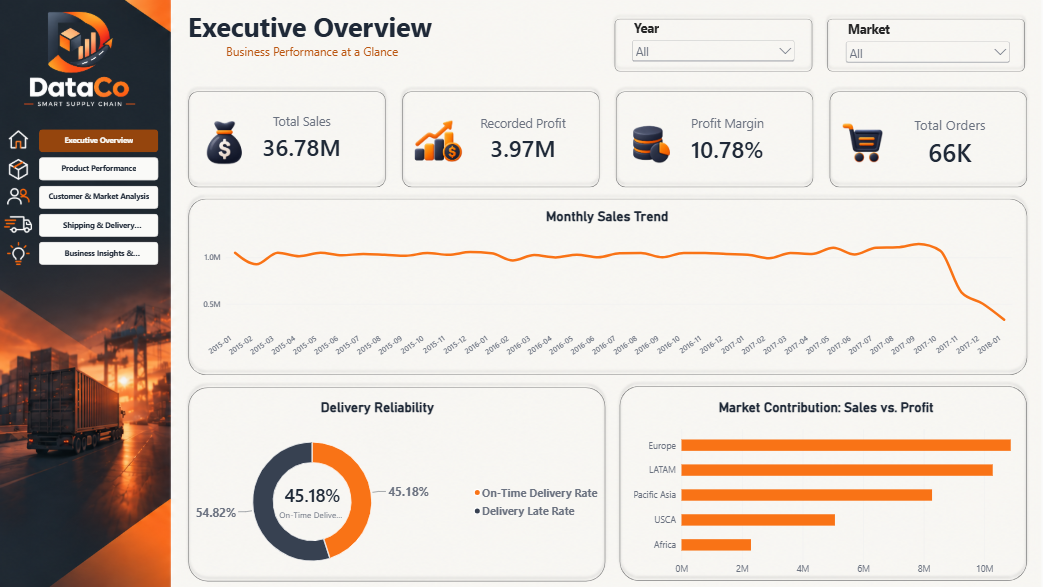

The dashboard page shown, as its layout file describes it:
{"tool":"powerbi","page":{"name":"Executive Overview","canvas":[1920,1080],"ordinal":0},"visuals":[{"type":"image","box":[0,19.2,491.9,287.8],"z":0},{"type":"textbox","box":[430.8,80.2,397.7,118.6],"z":1000},{"type":"shape","box":[1444.8,88.7,334.5,102.8],"z":2000},{"type":"shape","box":[1104.3,88.7,334.5,102.8],"z":3000},{"type":"slicer","fields":{"Values":["DimDate.Year"]},"box":[1136.5,98.7,270,80.6],"z":4000},{"type":"slicer","fields":{"Values":["FactOrderItems.Market"]},"box":[1477.1,100.8,272,80.6],"z":5000},{"type":"shape","box":[421.2,376.8,1360.2,300.3],"z":6000},{"type":"lineChart","title":"Monthly Sales Trend","fields":{"Category":["DimDate.Year Month"],"Y":["Measures_.Total Sales"]},"box":[435.3,386.9,1330,280.1],"z":7000},{"type":"shape","box":[1111,676.7,669.8,329.7],"z":8000},{"type":"shape","box":[421.2,677.1,685.1,328.5],"z":9000},{"type":"clusteredBarChart","title":"Market Contribution: Sales vs. Profit","fields":{"Category":["FactOrderItems.Market"],"Y":["Measures_.Total Sales"]},"box":[1120.4,691.2,663,316.4],"z":10000},{"type":"donutChart","title":"Delivery Reliability","fields":{"Y":["Measures_.On-Time Delivery Rate %","Measures_.Delivery Late Rate"]},"box":[356.7,691.7,755,316.7],"z":11000},{"type":"shape","box":[422,204,334,172],"z":12000},{"type":"shape","box":[764,204,334,172],"z":13000},{"type":"shape","box":[1106,204,334,172],"z":14000},{"type":"shape","box":[1448,204,334,172],"z":15000},{"type":"cardVisual","fields":{"Data":["Measures_.Total Sales"]},"box":[486.7,216.7,253.3,143.3],"z":16000},{"type":"cardVisual","fields":{"Data":["Measures_.Profit Margin %"]},"box":[1161.2,220,263.8,141.2],"z":17000},{"type":"cardVisual","fields":{"Data":["Measures_.Total Profit"]},"box":[850,220,233.3,140],"z":18000},{"type":"cardVisual","fields":{"Data":["Measures_.Total Orders"]},"box":[1446.7,223.3,323.3,140],"z":19000},{"type":"image","box":[763.9,223.6,121.9,128.7],"z":20000},{"type":"image","box":[1111.1,225.3,121.9,128.7],"z":21000},{"type":"image","box":[1452.5,225,121.9,128.7],"z":22000},{"type":"image","box":[421.7,223.6,132.1,133.8],"z":23000},{"type":"image","box":[1.7,204.1,382,359.3],"z":24000},{"type":"pageNavigator","box":[191.9,273.8,191.9,219.8],"z":25000}]}

Visuals, with their boxes in screenshot pixels (x1, y1, x2, y2), scaled from the page's 1920x1080 canvas onto the 1043x587 screenshot:
image: {"left": 0, "top": 10, "right": 267, "bottom": 167}
textbox: {"left": 234, "top": 44, "right": 450, "bottom": 108}
shape: {"left": 785, "top": 48, "right": 967, "bottom": 104}
shape: {"left": 600, "top": 48, "right": 782, "bottom": 104}
slicer - DimDate.Year: {"left": 617, "top": 54, "right": 764, "bottom": 97}
slicer - FactOrderItems.Market: {"left": 802, "top": 55, "right": 950, "bottom": 99}
shape: {"left": 229, "top": 205, "right": 968, "bottom": 368}
"Monthly Sales Trend" lineChart: {"left": 236, "top": 210, "right": 959, "bottom": 363}
shape: {"left": 604, "top": 368, "right": 967, "bottom": 547}
shape: {"left": 229, "top": 368, "right": 601, "bottom": 547}
"Market Contribution: Sales vs. Profit" clusteredBarChart: {"left": 609, "top": 376, "right": 969, "bottom": 548}
"Delivery Reliability" donutChart: {"left": 194, "top": 376, "right": 604, "bottom": 548}
shape: {"left": 229, "top": 111, "right": 411, "bottom": 204}
shape: {"left": 415, "top": 111, "right": 596, "bottom": 204}
shape: {"left": 601, "top": 111, "right": 782, "bottom": 204}
shape: {"left": 787, "top": 111, "right": 968, "bottom": 204}
cardVisual - Measures_.Total Sales: {"left": 264, "top": 118, "right": 402, "bottom": 196}
cardVisual - Measures_.Profit Margin %: {"left": 631, "top": 120, "right": 774, "bottom": 196}
cardVisual - Measures_.Total Profit: {"left": 462, "top": 120, "right": 588, "bottom": 196}
cardVisual - Measures_.Total Orders: {"left": 786, "top": 121, "right": 962, "bottom": 197}
image: {"left": 415, "top": 122, "right": 481, "bottom": 191}
image: {"left": 604, "top": 122, "right": 670, "bottom": 192}
image: {"left": 789, "top": 122, "right": 855, "bottom": 192}
image: {"left": 229, "top": 122, "right": 301, "bottom": 194}
image: {"left": 1, "top": 111, "right": 208, "bottom": 306}
pageNavigator: {"left": 104, "top": 149, "right": 208, "bottom": 268}
